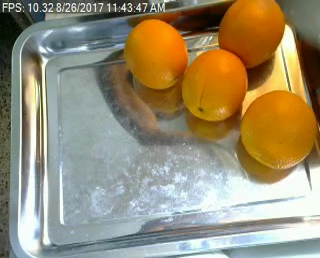Orange: (241, 89, 320, 170), (182, 48, 248, 120), (124, 18, 189, 89), (217, 1, 284, 69)
